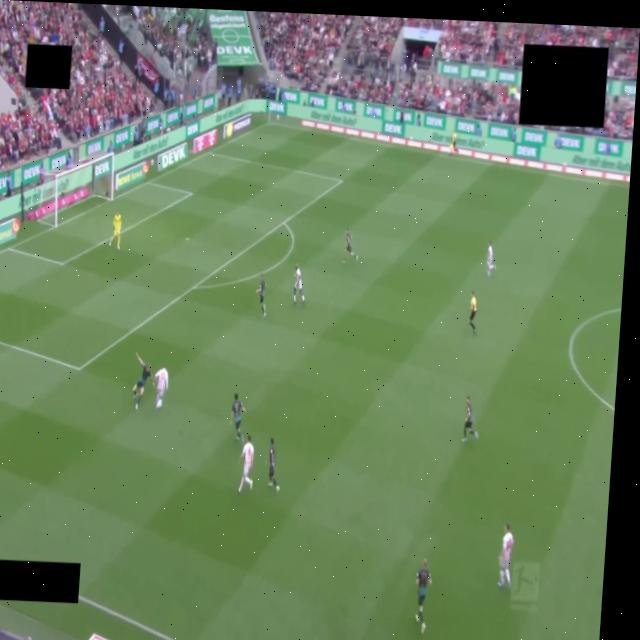player: (132, 354, 152, 409), (416, 559, 431, 632), (499, 524, 513, 587), (239, 435, 254, 492), (231, 394, 245, 443), (463, 397, 478, 442), (154, 367, 168, 409), (269, 437, 279, 492), (344, 229, 358, 263), (109, 213, 121, 249), (293, 265, 304, 304), (256, 275, 265, 316), (487, 241, 496, 277)
referee: (469, 292, 476, 333)
